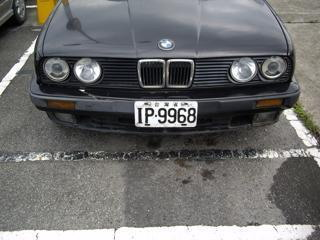plate: (131, 98, 199, 129)
